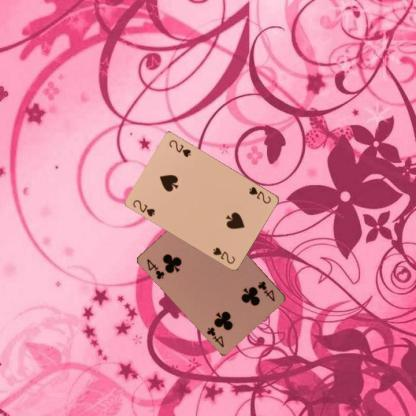2s: (246, 184, 273, 205), (130, 197, 156, 218)
4c: (144, 256, 166, 281), (256, 278, 276, 303)
